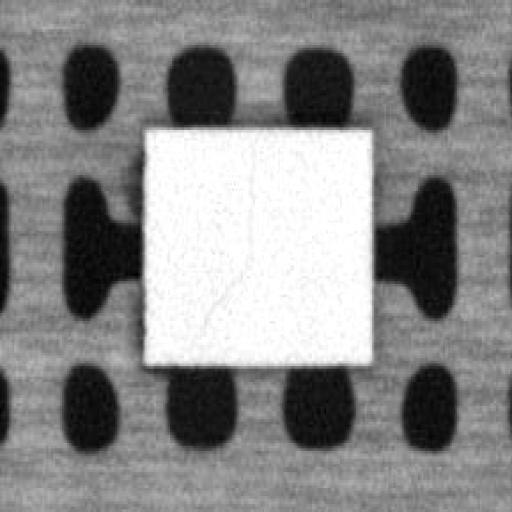DIE_CRACK: (202, 144, 255, 318)
